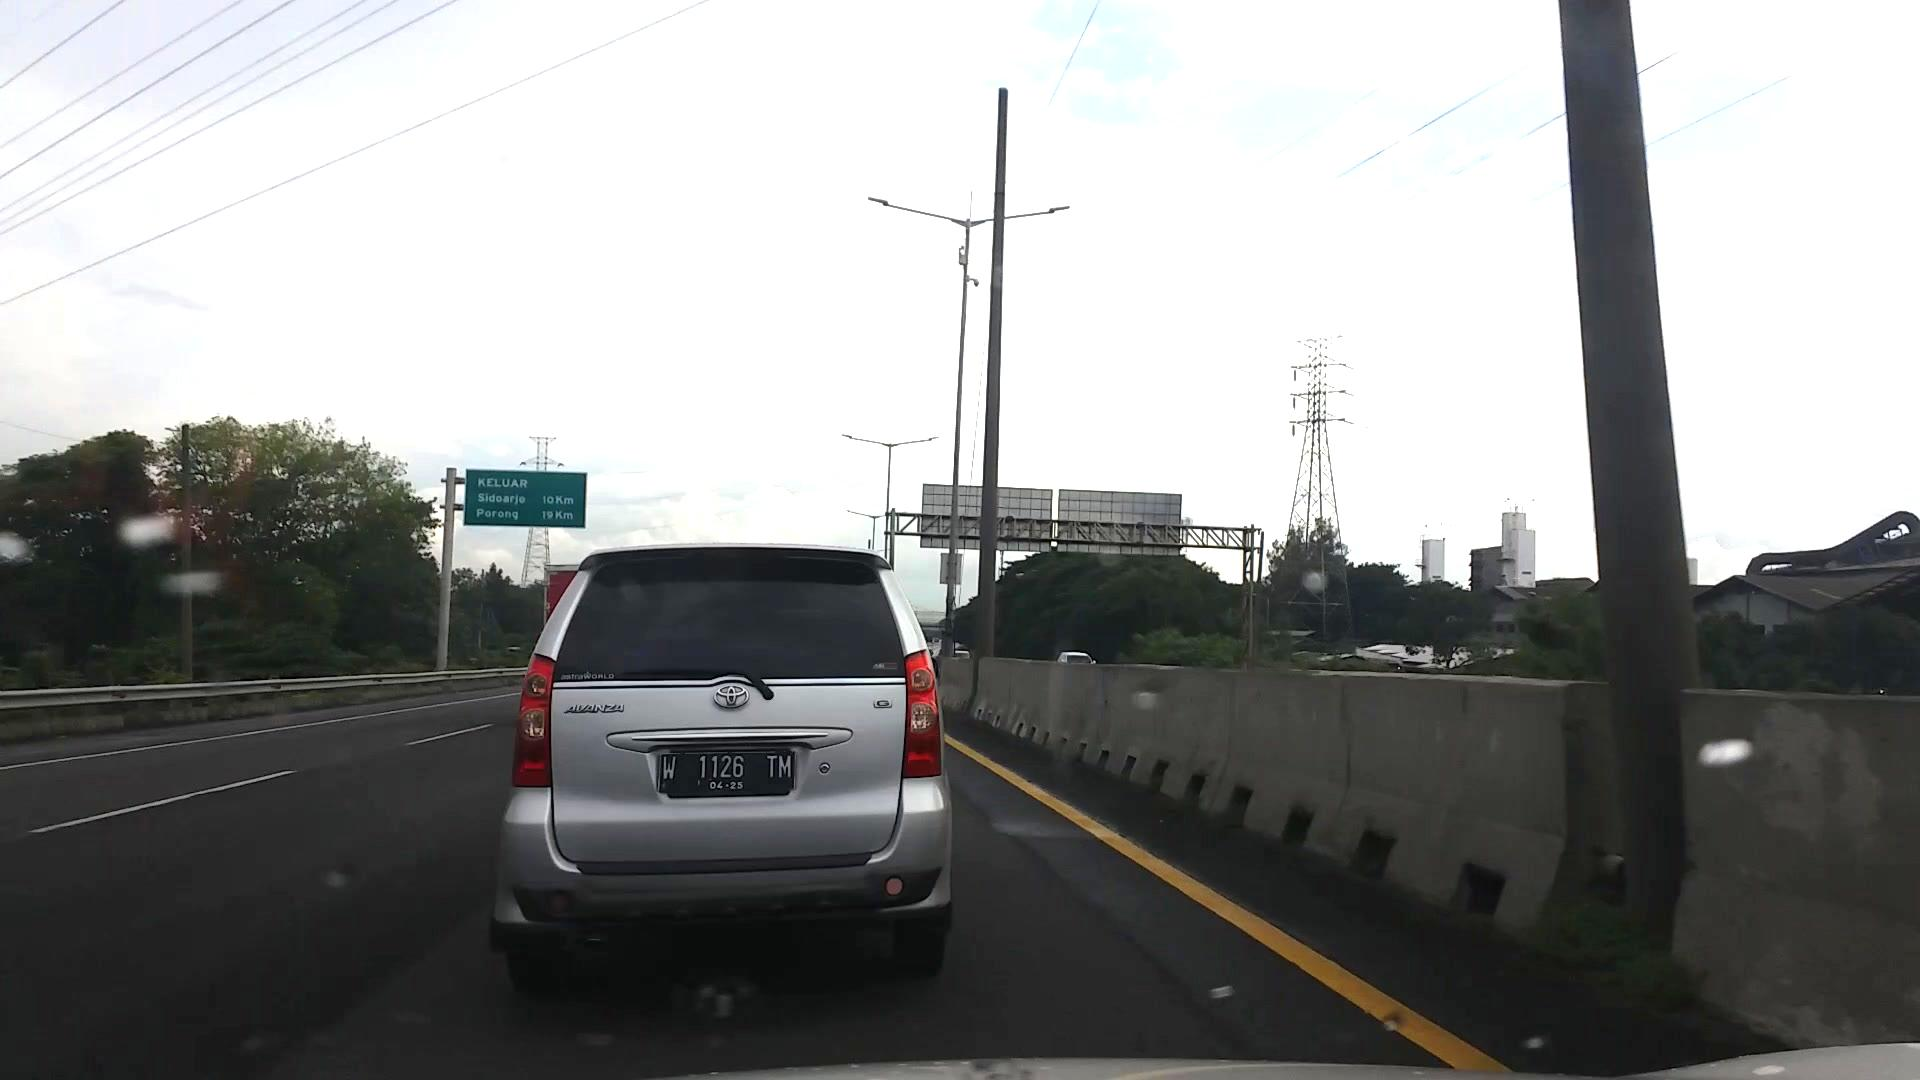plate_positive: (655, 752, 794, 791)
